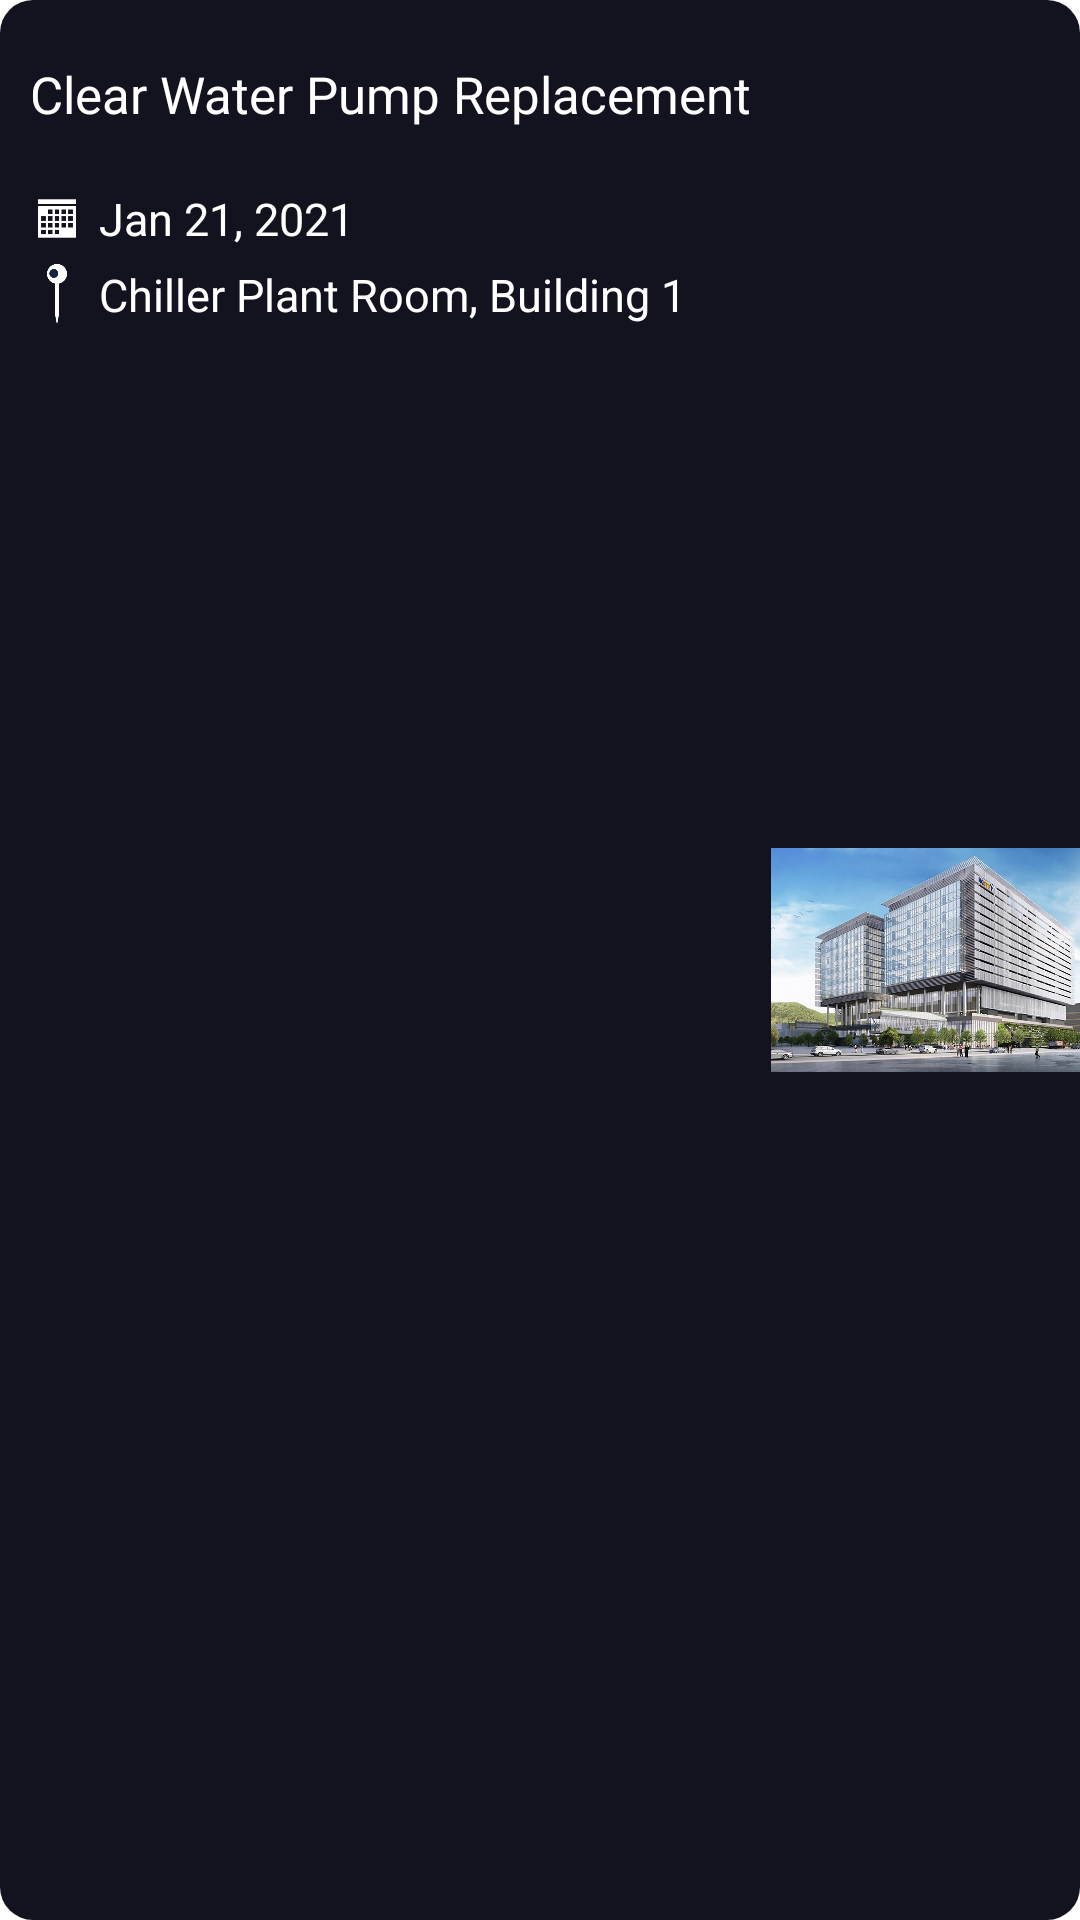

Point at icon controls on the screen. Image size 1080px x 1920px, points as (x,y).
pin: (57,293)
